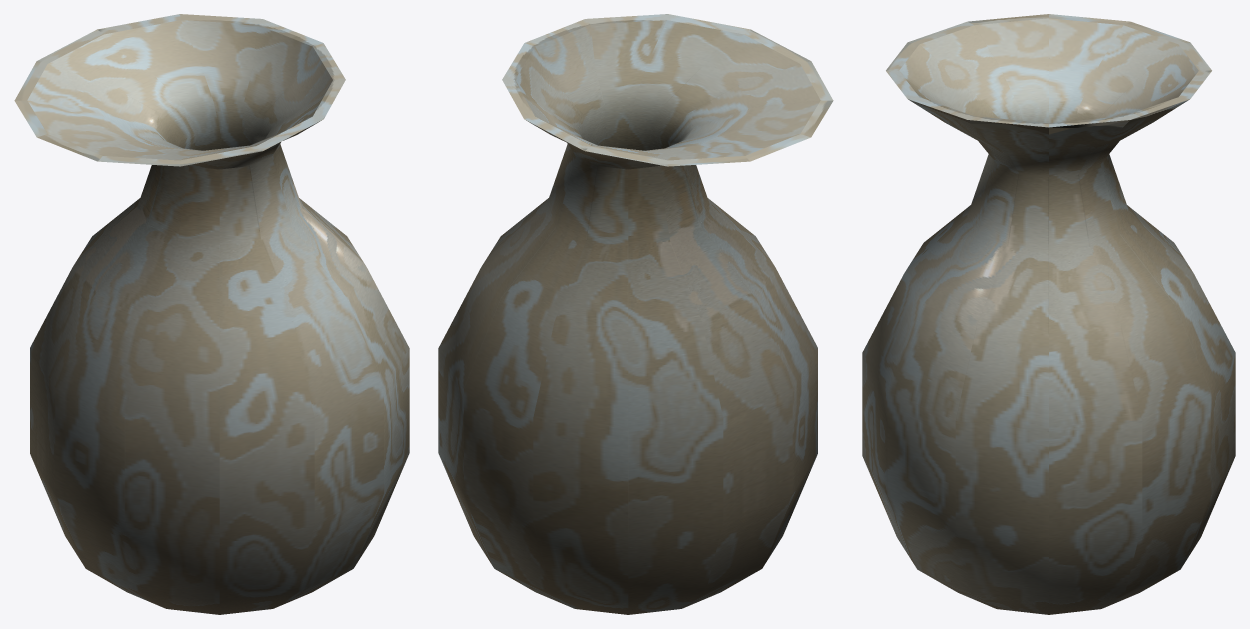
The model's file is vase04.fbx.
3 views of the same model, side by side, from view 1: azimuth 30°, elevation 25°; view 2: azimuth 150°, elevation 25°; view 3: azimuth 270°, elevation 25° (orthographic).
Visible parts, largest first — view 1: vase04.001; view 2: vase04.001; view 3: vase04.001.
Boxes of the visible parts, <box> form: vase04.001: <box>14,14,409,614</box>; vase04.001: <box>438,14,833,614</box>; vase04.001: <box>862,14,1235,614</box>.
Size of the model in its own units: 0.2742 by 0.2595 by 0.3782.
1 material, 1 textured.
